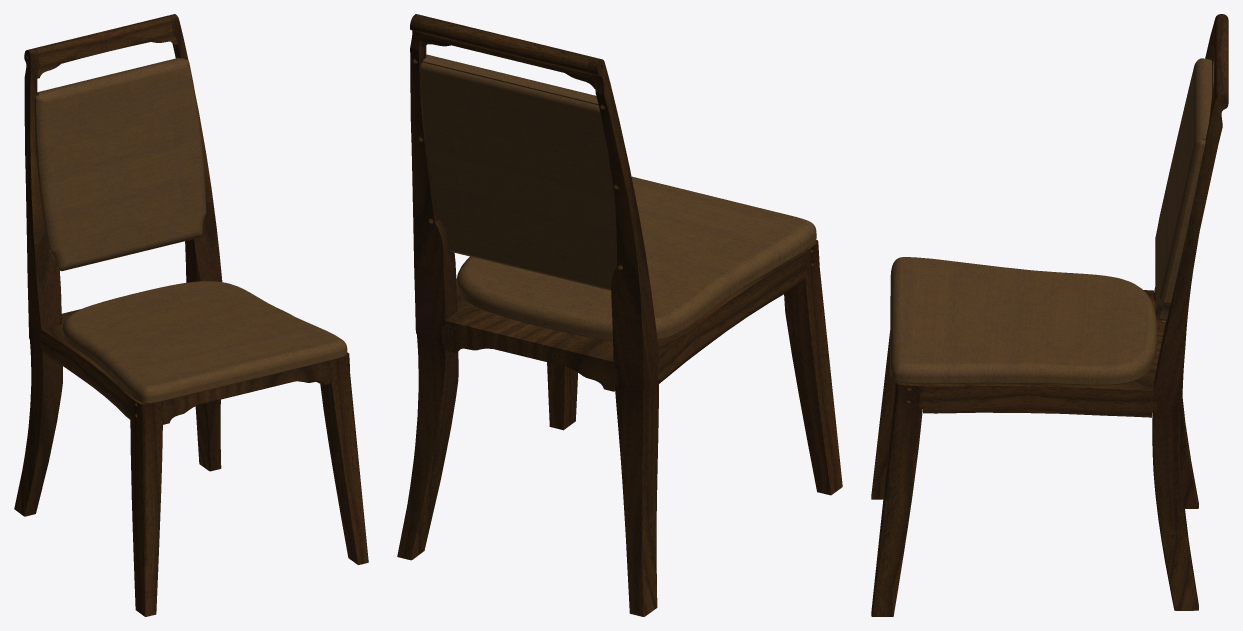
File: legacy-side.glb
3 renders of one model, left to right at view 1: azimuth 30°, elevation 25°; view 2: azimuth 150°, elevation 25°; view 3: azimuth 270°, elevation 25°, orthographic. The views are drawn at different scales.
Visible parts, largest first — view 1: Body1.001, Body68, Body17, Body1.003, Body2 (1) (1), Body12, Body1.002, Body1; view 2: Body1.001, Body68, Body17, Body1.002, Body2 (1) (1), Body1.003, Body1, Body12; view 3: Body68, Body1.002, Body2 (1) (1), Body1.001, Body12, Body1.003, Body17, Body1.
Part boxes in pixels (<box>): Body1.001: <box>34,57,206,271</box>; Body68: <box>62,281,347,403</box>; Body17: <box>14,48,62,516</box>; Body1.003: <box>129,397,162,616</box>; Body2 (1) (1): <box>40,309,333,424</box>; Body12: <box>320,352,368,564</box>; Body1.002: <box>168,14,222,471</box>; Body1: <box>34,15,177,78</box>; Body1.001: <box>420,54,616,290</box>; Body68: <box>457,176,816,341</box>; Body17: <box>588,57,659,616</box>; Body1.002: <box>397,14,458,560</box>; Body2 (1) (1): <box>441,252,806,391</box>; Body1.003: <box>784,240,842,495</box>; Body1: <box>420,16,595,88</box>; Body12: <box>547,362,577,430</box>; Body68: <box>890,257,1156,385</box>; Body1.002: <box>1152,91,1228,610</box>; Body2 (1) (1): <box>894,290,1165,417</box>; Body1.001: <box>1155,58,1213,322</box>; Body12: <box>871,382,924,616</box>; Body1.003: <box>871,330,894,499</box>; Body17: <box>1154,14,1228,508</box>; Body1: <box>1209,18,1228,120</box>.
Size of the model in its own units: 0.5349 by 1.02 by 0.6548.
2 materials, 2 textured.
